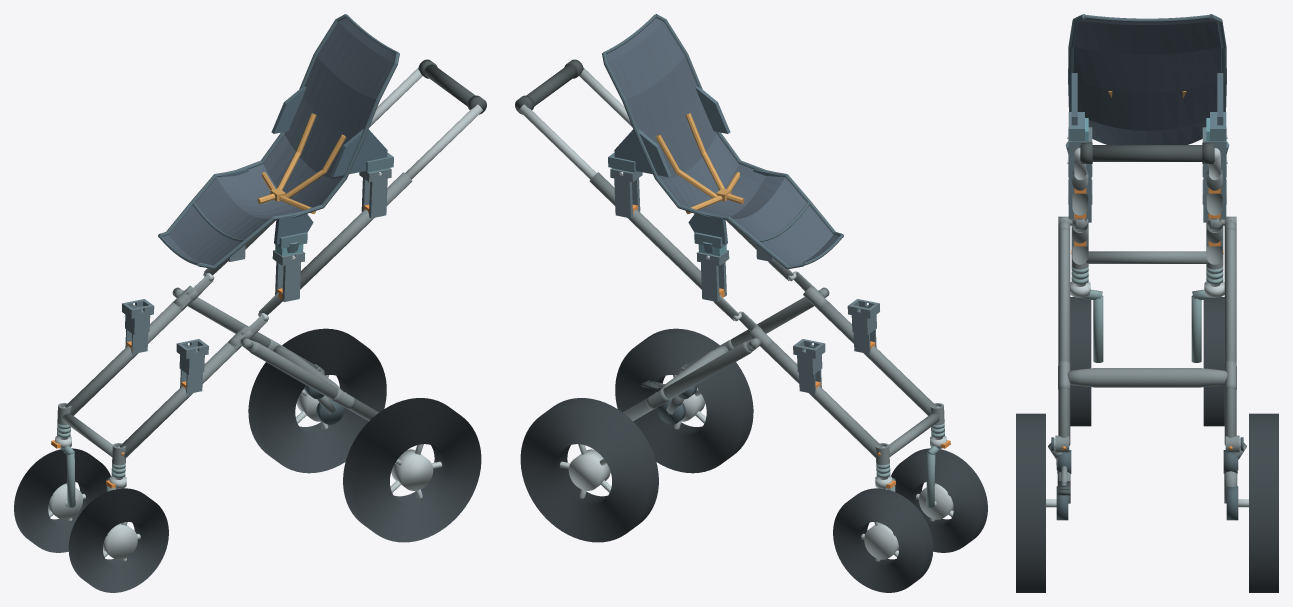
File: S01_w380_state1_wheel_L.glb
3 views of the same model, side by side, from view 1: azimuth 30°, elevation 25°; view 2: azimuth 150°, elevation 25°; view 3: azimuth 270°, elevation 25° (orthographic). The views are drawn at different scales.
Visible parts, largest first — view 1: S01_Cabin, RL_tire.009, RR_tire.009, FL_tire.009, FR_tire.009, main_lower_1, main_lower_-1, main_upper_-1, V46_rear_leg_-1.002, Universal_Cabin_Receiver_L_-1, Universal_Cabin_Receiver_L_1, RL_sealed_hub.009 (+9 smaller); view 2: S01_Cabin, RR_tire.009, RL_tire.009, FR_tire.009, FL_tire.009, main_lower_-1, main_lower_1, main_upper_1, V46_rear_leg_1.002, Universal_Cabin_Receiver_L_1, Universal_Cabin_Receiver_L_-1, RR_sealed_hub.009 (+9 smaller); view 3: S01_Cabin, RL_tire.009, RR_tire.009, V46_rearbar.002, FL_tire.009, FR_tire.009, V46_rear_leg_1.002, V46_rear_leg_-1.002, round_handle.010, front_fixed_round_tube, S01_Cabin_Mount_H, FL_fork.009 (+9 smaller).
Boxes of the visible parts, x1,y1,x2,y2 form: S01_Cabin: (158, 14, 399, 269); RL_tire.009: (343, 398, 481, 542); RR_tire.009: (248, 328, 386, 473); FL_tire.009: (68, 488, 168, 592); FR_tire.009: (14, 448, 110, 552); main_lower_1: (65, 299, 190, 415); main_lower_-1: (120, 342, 240, 458); main_upper_-1: (300, 172, 412, 289); V46_rear_leg_-1.002: (249, 341, 378, 420); Universal_Cabin_Receiver_L_-1: (176, 339, 208, 394); Universal_Cabin_Receiver_L_1: (122, 299, 154, 354); RL_sealed_hub.009: (391, 449, 433, 490); S01_Cabin: (602, 14, 843, 269); RR_tire.009: (520, 398, 658, 542); RL_tire.009: (615, 328, 753, 473); FR_tire.009: (833, 488, 933, 592); FL_tire.009: (891, 448, 987, 552); main_lower_-1: (811, 299, 936, 415); main_lower_1: (761, 342, 881, 458); main_upper_1: (589, 172, 701, 289); V46_rear_leg_1.002: (623, 341, 752, 420); Universal_Cabin_Receiver_L_1: (793, 339, 825, 394); Universal_Cabin_Receiver_L_-1: (847, 299, 879, 354); RR_sealed_hub.009: (568, 449, 610, 490); S01_Cabin: (1068, 14, 1226, 144); RL_tire.009: (1016, 413, 1045, 592); RR_tire.009: (1249, 413, 1278, 592); V46_rearbar.002: (1067, 368, 1227, 387); FL_tire.009: (1070, 297, 1091, 426); FR_tire.009: (1203, 297, 1224, 426); V46_rear_leg_1.002: (1224, 227, 1236, 445); V46_rear_leg_-1.002: (1058, 227, 1070, 445); round_handle.010: (1080, 145, 1214, 161); front_fixed_round_tube: (1086, 251, 1208, 263); S01_Cabin_Mount_H: (1067, 112, 1227, 141); FL_fork.009: (1093, 295, 1103, 362).
Size of the model in its own units: 1.18 by 1.27 by 0.5271.
